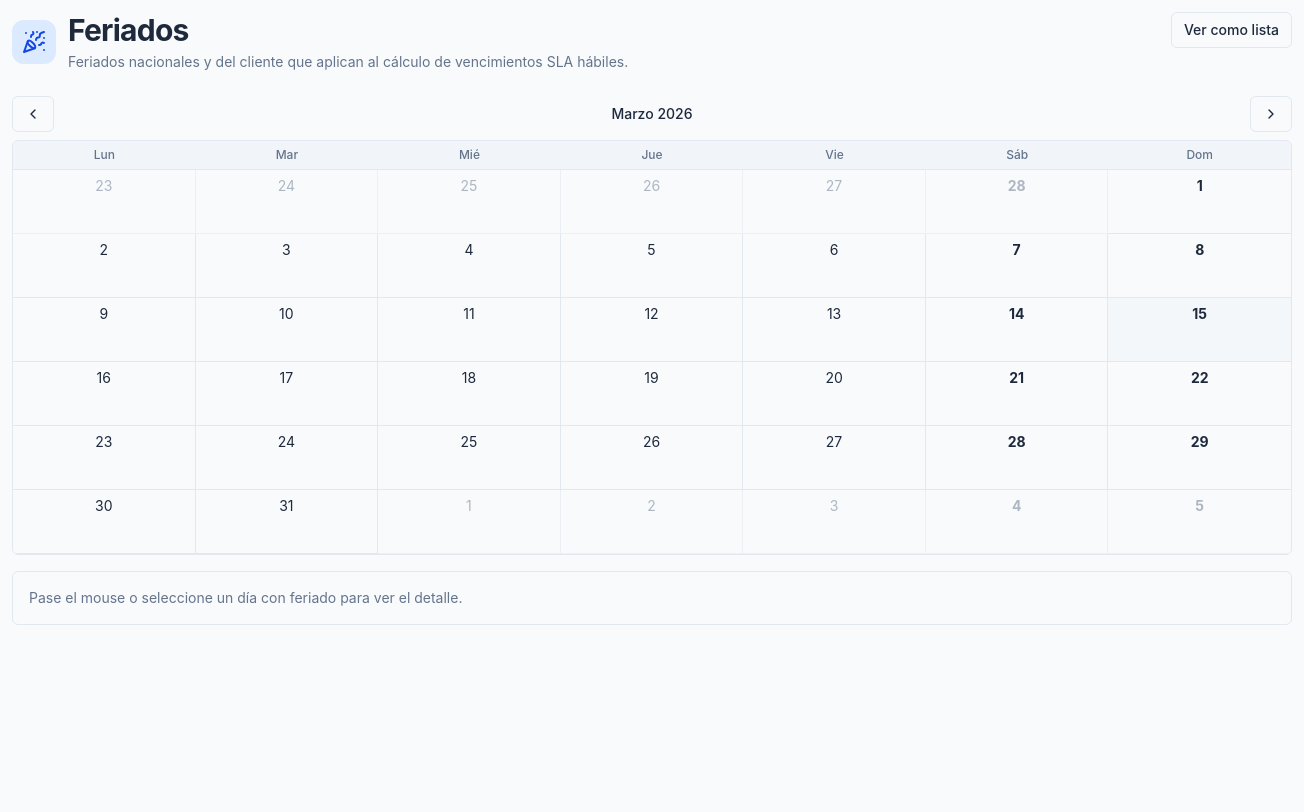
FeriadosListView (/feriados, task 8.1, WU8a) › sin filas GLOBAL sin filas CLIENTE (ninguna de las dos tiene datos) → estado vacío, no error
Click the button "Ver como lista": (1231, 30) [1171, 12, 1292, 48]
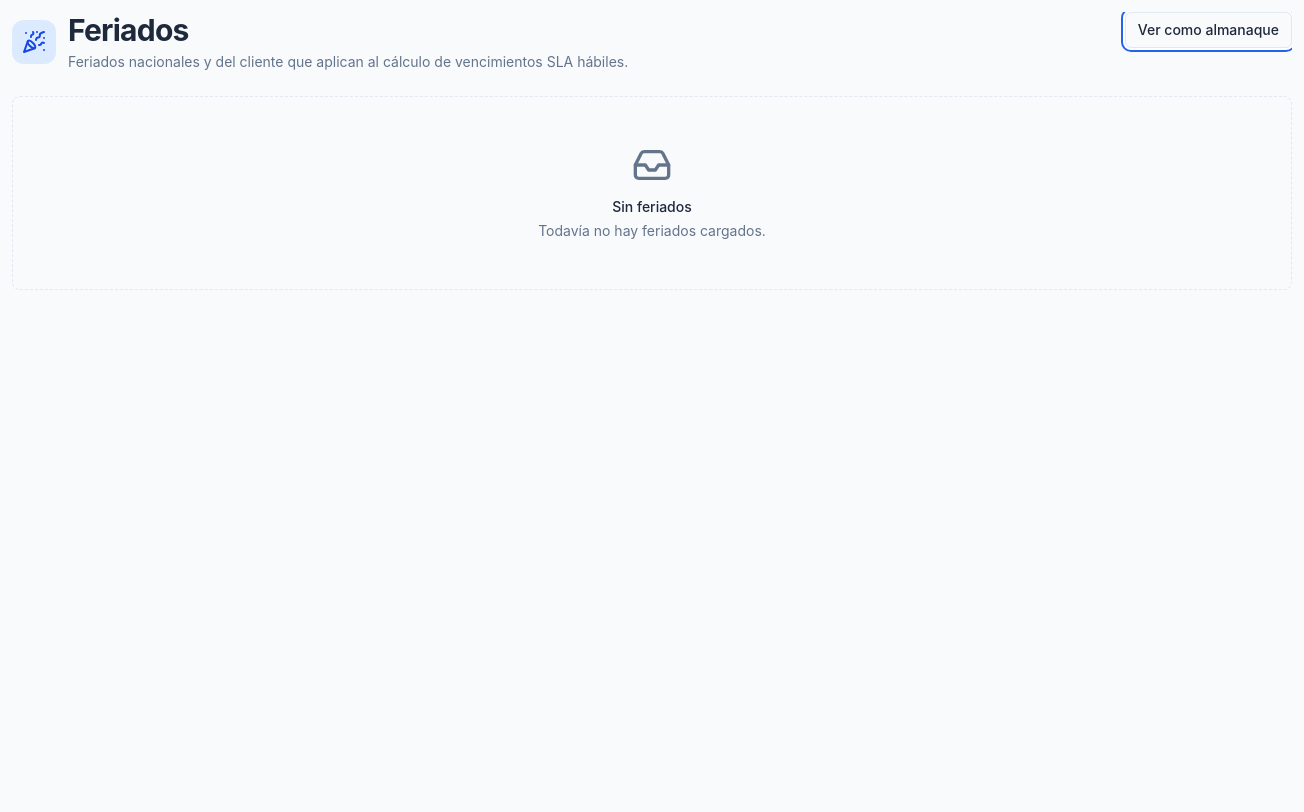
Now the text "Sin feriados" is shown, box [612, 198, 692, 215]
